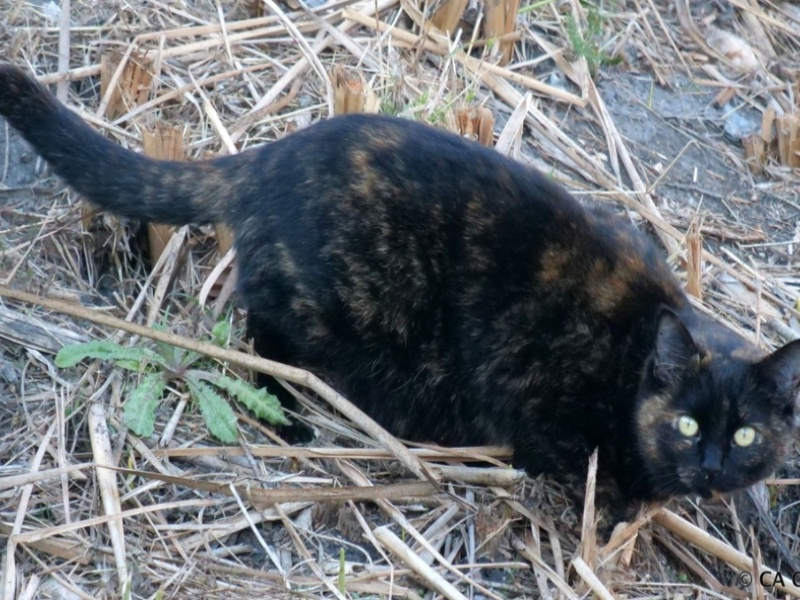cat: (4, 51, 798, 526)
